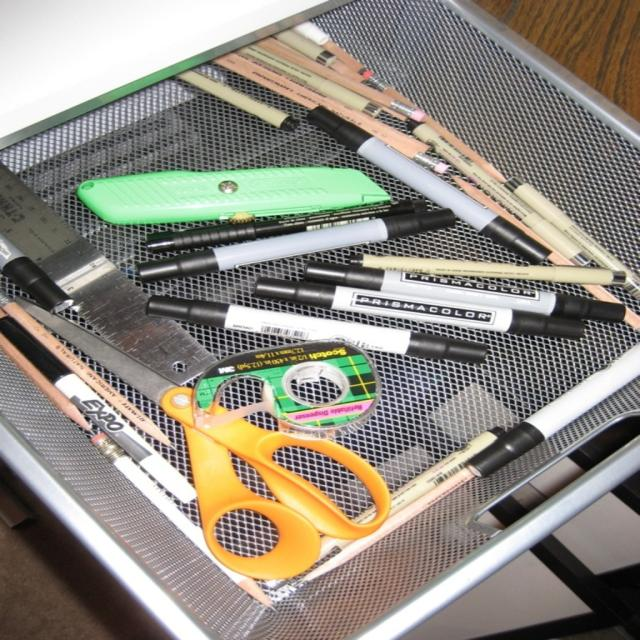pen: (315, 409, 639, 639), (269, 418, 546, 616), (401, 114, 639, 296), (0, 310, 209, 504), (143, 206, 459, 282), (146, 290, 487, 360), (232, 16, 429, 123), (143, 192, 423, 249), (348, 251, 632, 286), (173, 64, 302, 134), (0, 232, 83, 315)
